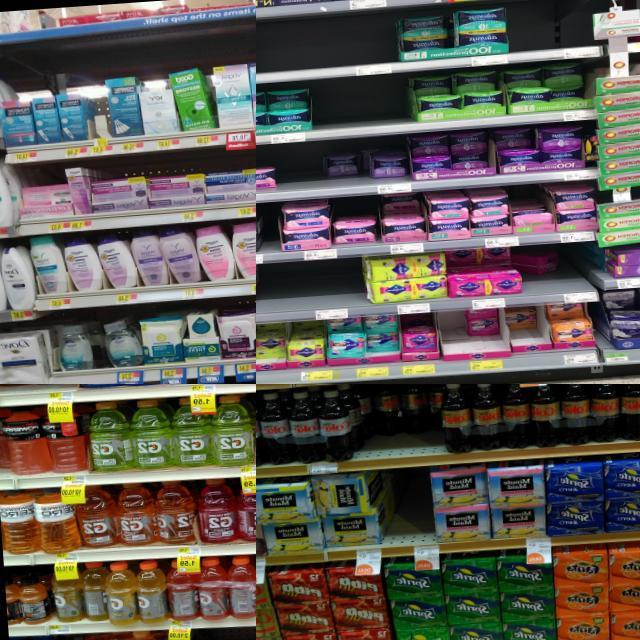Imprecise: (416, 66, 587, 112), (345, 382, 440, 456), (324, 314, 402, 366), (439, 248, 517, 297), (256, 318, 324, 368), (398, 6, 458, 62), (323, 144, 408, 183), (378, 192, 437, 242), (416, 131, 484, 172), (548, 304, 597, 352), (522, 242, 566, 295), (601, 288, 640, 347), (467, 306, 505, 356), (507, 301, 543, 351), (500, 128, 537, 168)
